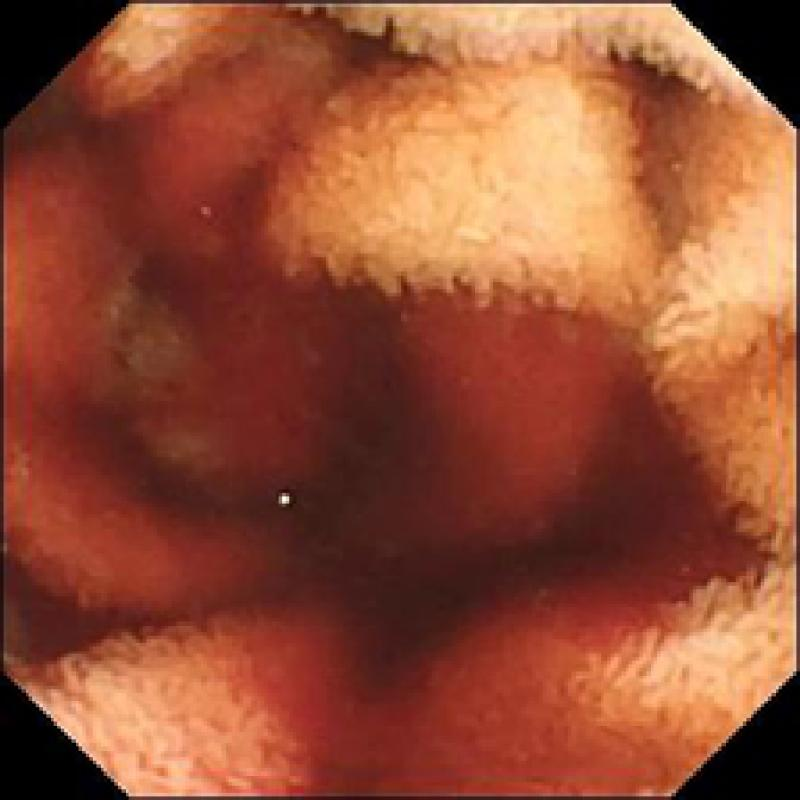bleeding: (3, 28, 696, 800)
